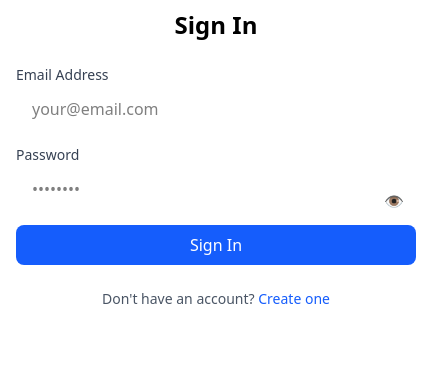
Scenario: LoginForm › Validation › clears validation errors when user types
Click the button "Sign In". click: (216, 245)
box: top-left (16, 225), bottom-right (416, 265)
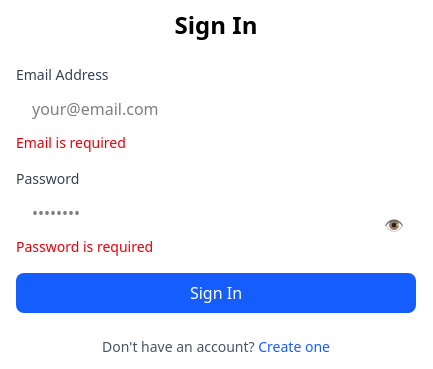
Expected: the text "Email is required" is shown, top-left (16, 133), bottom-right (126, 152)
Type "test@example.com" into the field labelled "Email Address". click: (216, 109)
box: top-left (16, 89), bottom-right (416, 129)
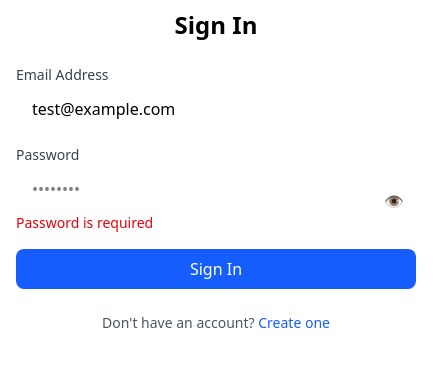
Expected: the text "Email is required" is gone
